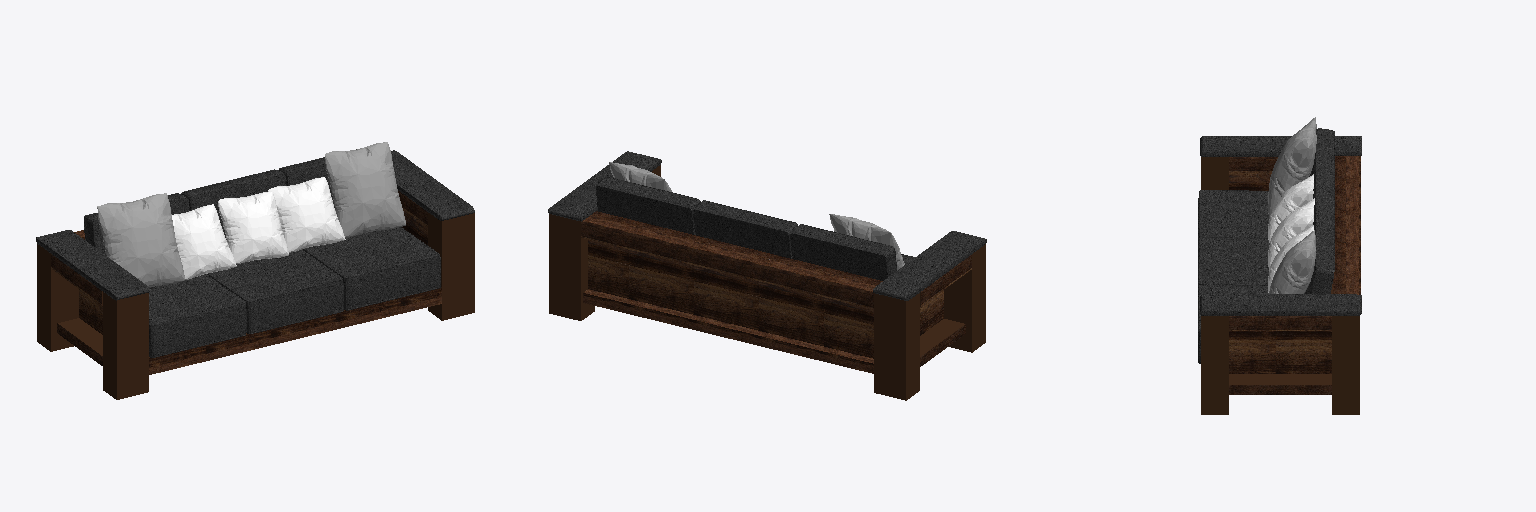
The picture shows the model from 3 angles: view 1: azimuth 30°, elevation 25°; view 2: azimuth 150°, elevation 25°; view 3: azimuth 270°, elevation 25°; orthographic projection.
Parts seen in each view (by area): view 1: Mesh42_Cushion_Bottom_1_6_Group26_Group12_Group1_Model, Mesh45_Cushion_Bottom_1_7_Group27_Group12_Group1_Model, Mesh48_Cushion_Bottom_1_8_Group28_Group12_Group1_Model, Mesh25_Group19_Group12_Group1_Model, Mesh30_Group22_Group12_Group1_Model, Mesh24_Group18_Group12_Group1_Model, Mesh27_Group20_Group12_Group1_Model, Mesh22_Group16_Group12_Group1_Model, Mesh19_Group15_Group12_Group1_Model, Mesh17_Group13_Group12_Group1_Model, Mesh50_Group30_Group12_Group1_Model, Mesh18_Group14_Group12_Group1_Model (+8 smaller); view 2: Mesh24_Group18_Group12_Group1_Model, Mesh23_Group18_Group12_Group1_Model, Mesh33_Cushion_Bottom_1_3_Group23_Group12_Group1_Model, Mesh39_Cushion_Bottom_1_5_Group25_Group12_Group1_Model, Mesh36_Cushion_Bottom_1_4_Group24_Group12_Group1_Model, Mesh50_Group30_Group12_Group1_Model, Mesh27_Group20_Group12_Group1_Model, Mesh49_Group29_Group12_Group1_Model, Mesh25_Group19_Group12_Group1_Model, Mesh26_Group21_Group20_Group12_Group1_Model, Mesh30_Group22_Group12_Group1_Model, Mesh29_Group20_Group12_Group1_Model (+1 smaller); view 3: Mesh22_Group16_Group12_Group1_Model, Mesh24_Group18_Group12_Group1_Model, Mesh49_Group29_Group12_Group1_Model, Mesh45_Cushion_Bottom_1_7_Group27_Group12_Group1_Model, Mesh48_Cushion_Bottom_1_8_Group28_Group12_Group1_Model, Mesh50_Group30_Group12_Group1_Model, Mesh25_Group19_Group12_Group1_Model, Mesh20_Group17_Group16_Group12_Group1_Model, Mesh30_Group22_Group12_Group1_Model, Mesh21_Group16_Group12_Group1_Model, Mesh39_Cushion_Bottom_1_5_Group25_Group12_Group1_Model, Mesh17_Group13_Group12_Group1_Model (+7 smaller).
Boxes of the visible parts, x1,y1,x2,y2 form: Mesh42_Cushion_Bottom_1_6_Group26_Group12_Group1_Model: [304, 227, 440, 309]; Mesh45_Cushion_Bottom_1_7_Group27_Group12_Group1_Model: [208, 250, 343, 332]; Mesh48_Cushion_Bottom_1_8_Group28_Group12_Group1_Model: [149, 274, 246, 356]; Mesh25_Group19_Group12_Group1_Model: [97, 193, 184, 286]; Mesh30_Group22_Group12_Group1_Model: [325, 142, 405, 237]; Mesh24_Group18_Group12_Group1_Model: [74, 230, 441, 374]; Mesh27_Group20_Group12_Group1_Model: [103, 292, 148, 399]; Mesh22_Group16_Group12_Group1_Model: [402, 209, 474, 320]; Mesh19_Group15_Group12_Group1_Model: [268, 177, 345, 252]; Mesh17_Group13_Group12_Group1_Model: [218, 192, 288, 263]; Mesh50_Group30_Group12_Group1_Model: [36, 230, 149, 300]; Mesh18_Group14_Group12_Group1_Model: [172, 204, 236, 279]; Mesh24_Group18_Group12_Group1_Model: [549, 211, 882, 373]; Mesh23_Group18_Group12_Group1_Model: [874, 293, 919, 400]; Mesh33_Cushion_Bottom_1_3_Group23_Group12_Group1_Model: [790, 224, 896, 280]; Mesh39_Cushion_Bottom_1_5_Group25_Group12_Group1_Model: [596, 177, 699, 234]; Mesh36_Cushion_Bottom_1_4_Group24_Group12_Group1_Model: [693, 201, 797, 258]; Mesh50_Group30_Group12_Group1_Model: [873, 231, 986, 300]; Mesh27_Group20_Group12_Group1_Model: [944, 244, 985, 352]; Mesh49_Group29_Group12_Group1_Model: [548, 151, 661, 221]; Mesh25_Group19_Group12_Group1_Model: [829, 214, 904, 270]; Mesh26_Group21_Group20_Group12_Group1_Model: [920, 319, 965, 366]; Mesh30_Group22_Group12_Group1_Model: [609, 162, 671, 191]; Mesh29_Group20_Group12_Group1_Model: [920, 255, 971, 306]; Mesh22_Group16_Group12_Group1_Model: [1201, 316, 1331, 414]; Mesh24_Group18_Group12_Group1_Model: [1331, 156, 1360, 414]; Mesh49_Group29_Group12_Group1_Model: [1200, 294, 1361, 315]; Mesh45_Cushion_Bottom_1_7_Group27_Group12_Group1_Model: [1198, 238, 1269, 291]; Mesh48_Cushion_Bottom_1_8_Group28_Group12_Group1_Model: [1198, 190, 1268, 244]; Mesh50_Group30_Group12_Group1_Model: [1200, 136, 1361, 156]; Mesh25_Group19_Group12_Group1_Model: [1268, 117, 1316, 218]; Mesh20_Group17_Group16_Group12_Group1_Model: [1229, 374, 1331, 394]; Mesh30_Group22_Group12_Group1_Model: [1269, 230, 1315, 293]; Mesh21_Group16_Group12_Group1_Model: [1229, 316, 1331, 330]; Mesh39_Cushion_Bottom_1_5_Group25_Group12_Group1_Model: [1305, 223, 1333, 294]; Mesh17_Group13_Group12_Group1_Model: [1268, 198, 1314, 270].
Bounding box in the file's own units: 36.3 × 13.82 × 14.37.
5 materials, 2 textured.